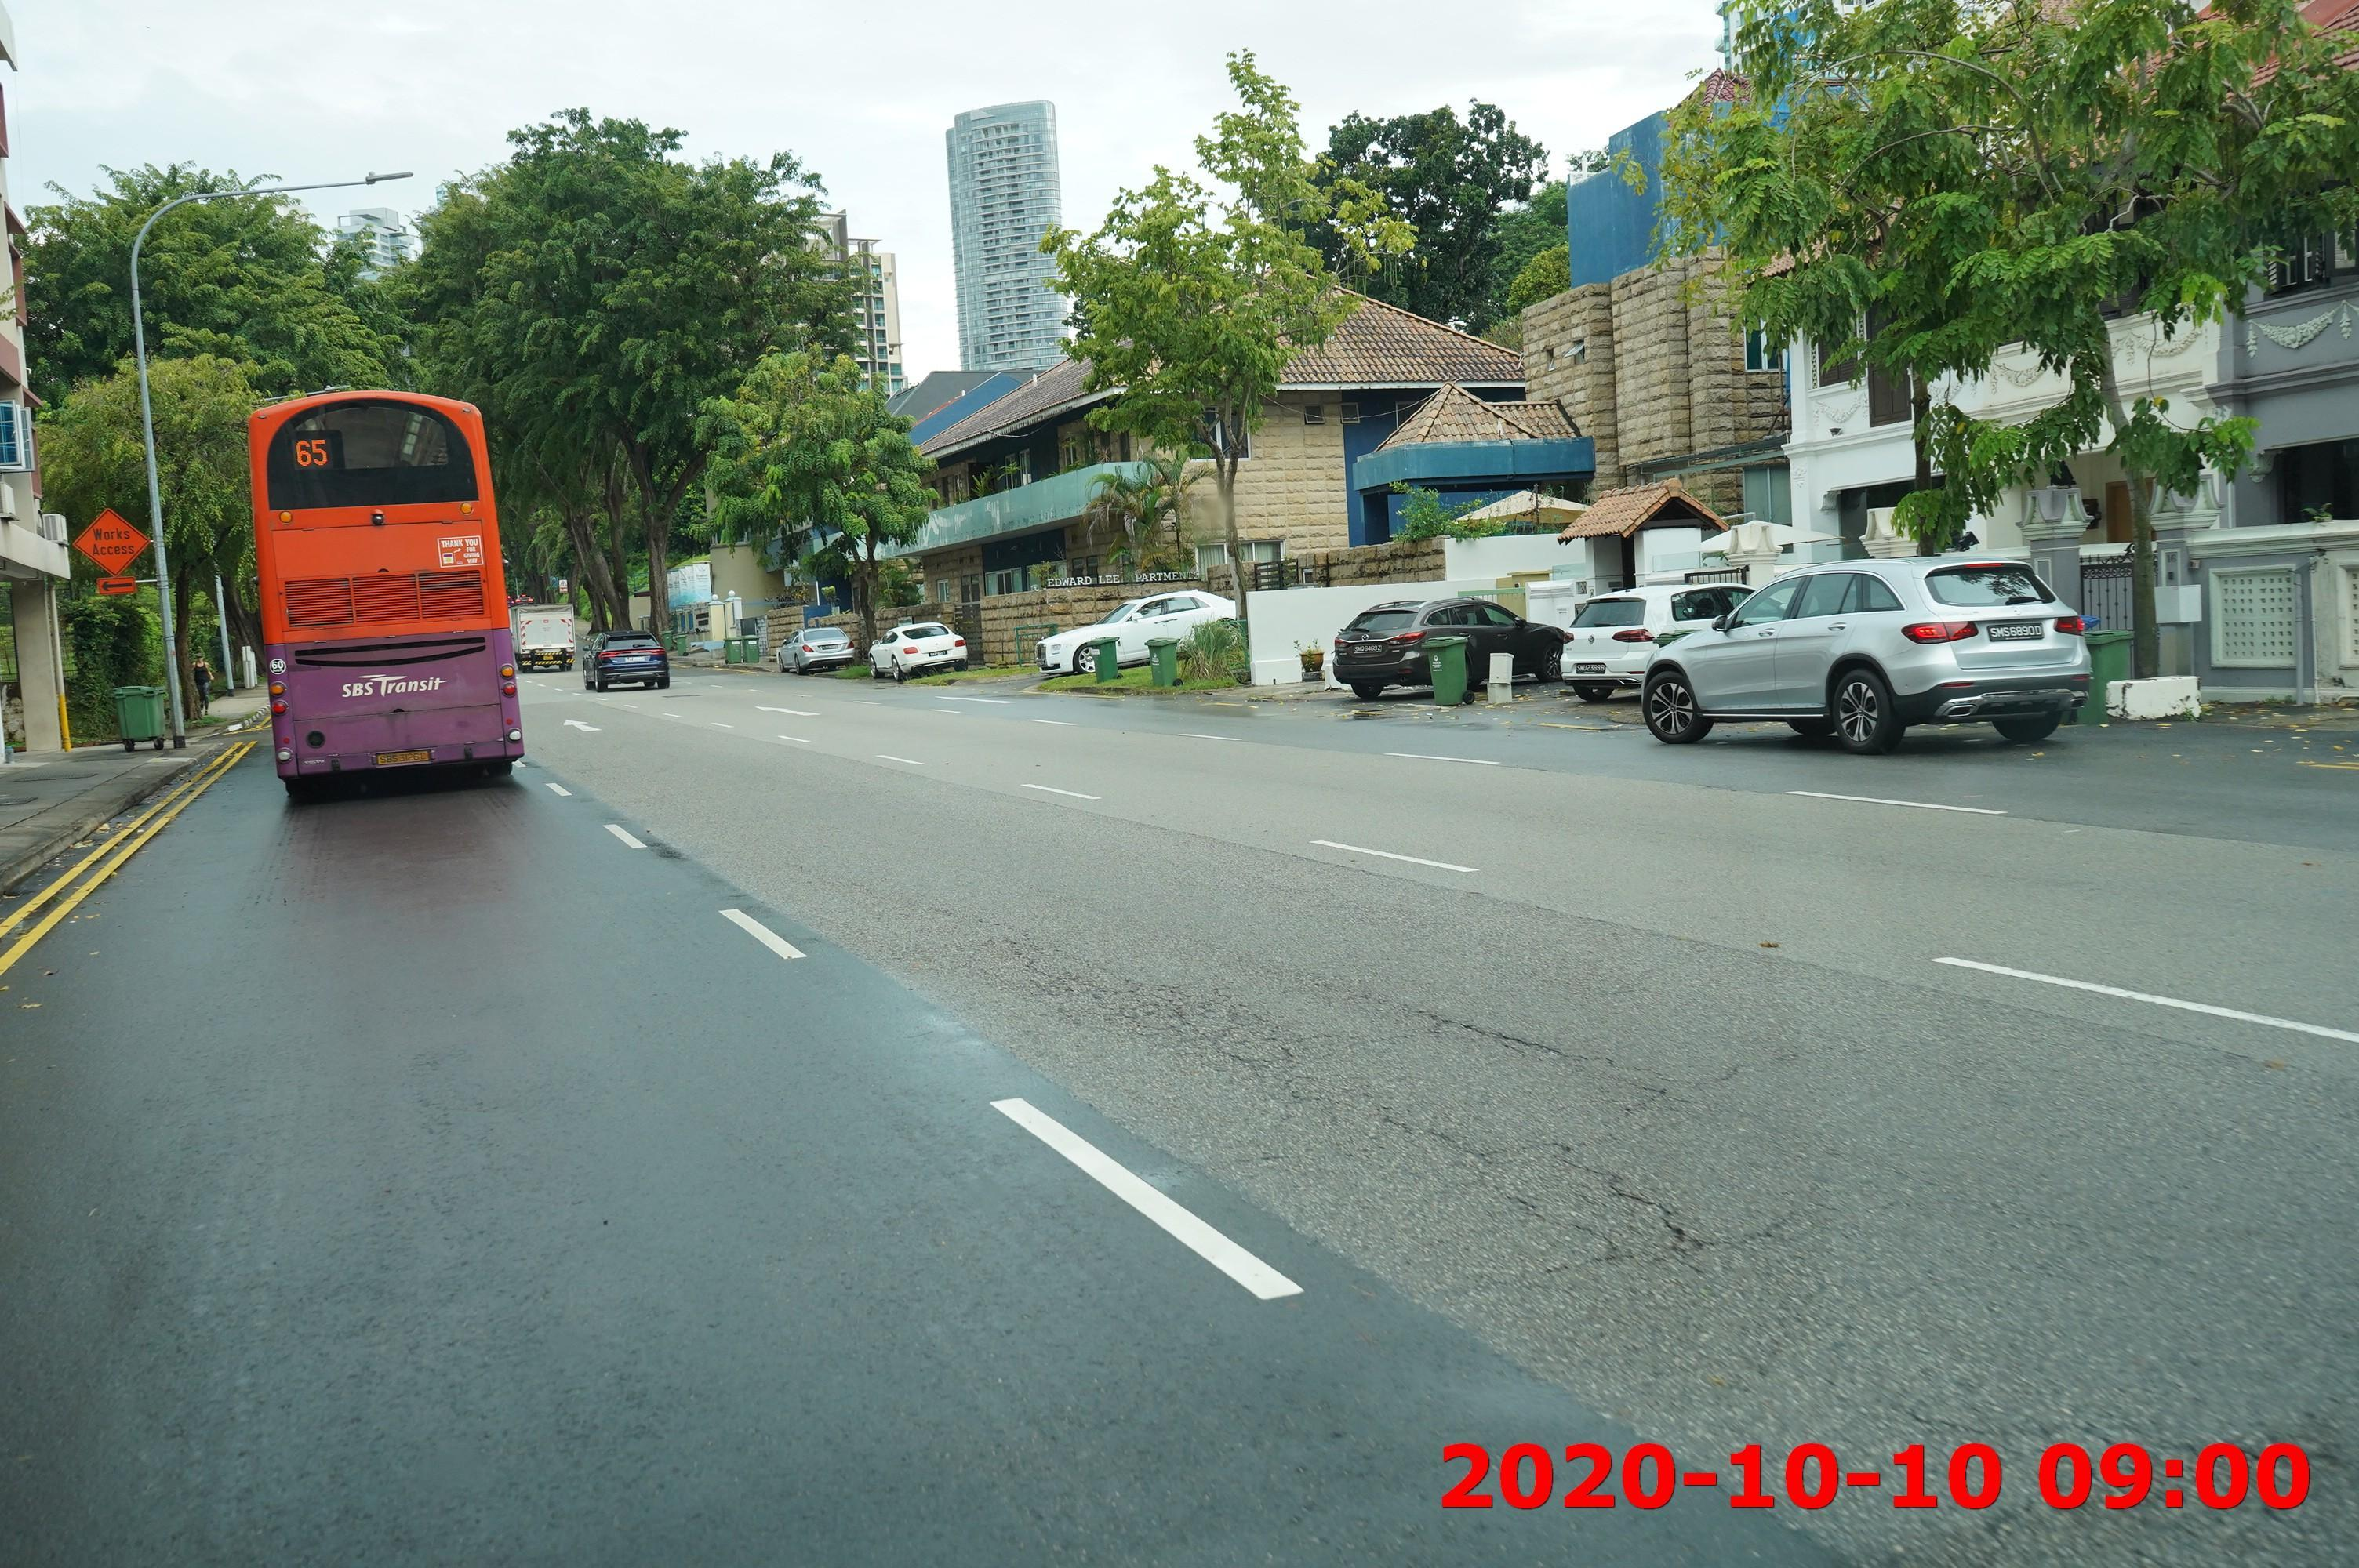alligator crack: (997, 943, 1381, 1097)
